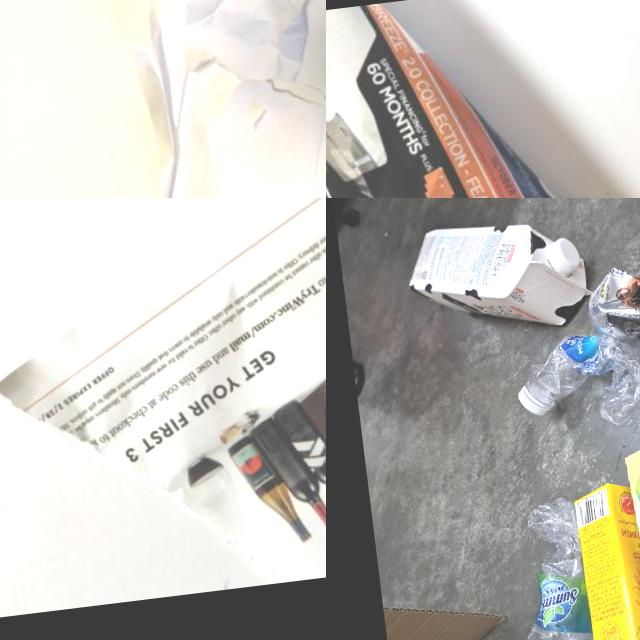caixinha: (403, 210, 596, 342), (571, 474, 640, 640)
garrafa plástica: (520, 323, 640, 438), (510, 494, 594, 640)
lata: (581, 242, 640, 345)
papel: (0, 198, 326, 613), (326, 0, 640, 198), (113, 0, 326, 198)
papelão: (382, 588, 522, 640)
tampa plástica: (548, 236, 582, 276), (516, 386, 550, 418)
